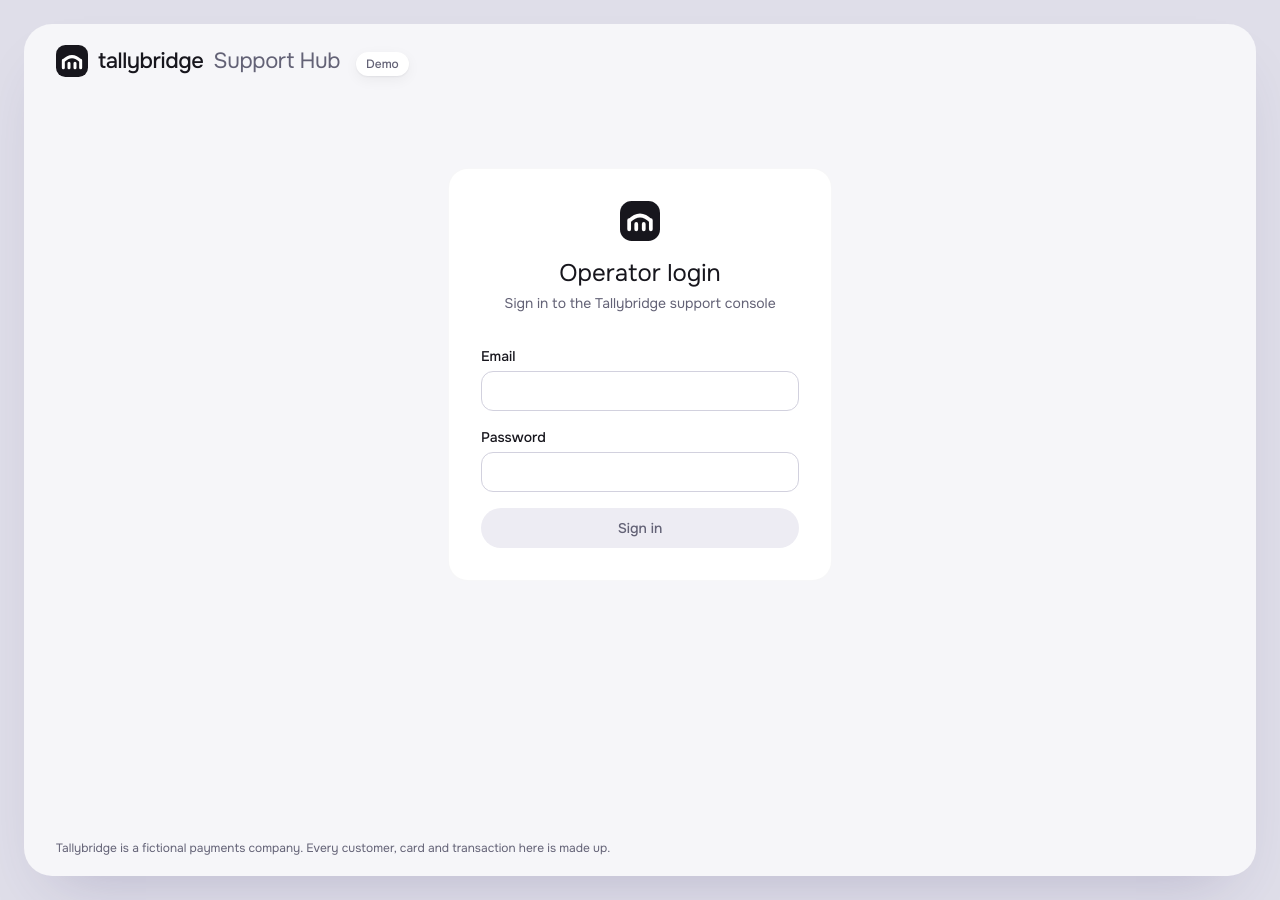
Test: operator login › shows a plain message for wrong credentials and never sends the token on reads
The width and height of the screenshot is (1280, 900).
Type "a@b.test" into the field labelled "Email" at (640, 391), box 481,371 -> 799,411
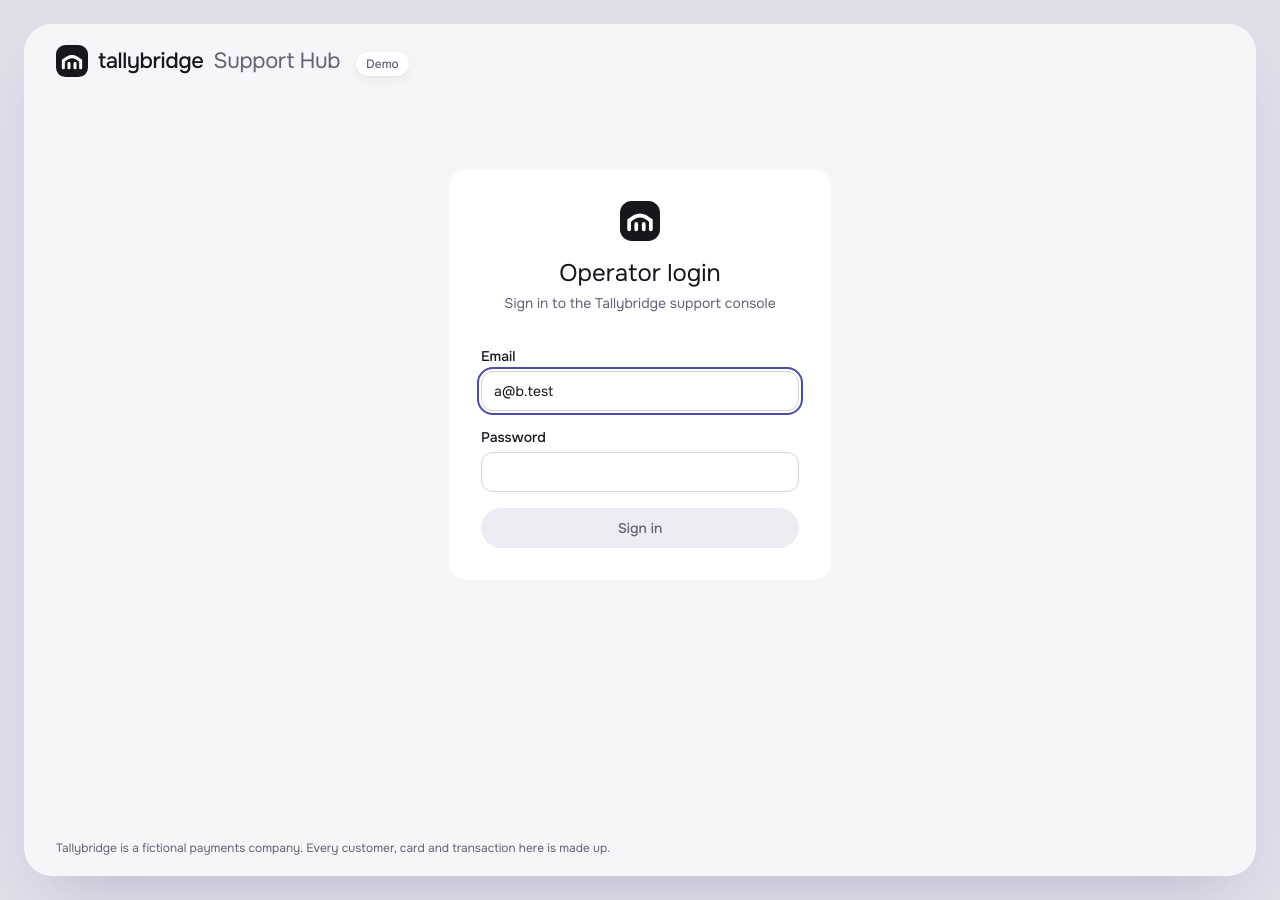
Type "wrong" into the password field labelled "Password" at (640, 472), box 481,452 -> 799,492
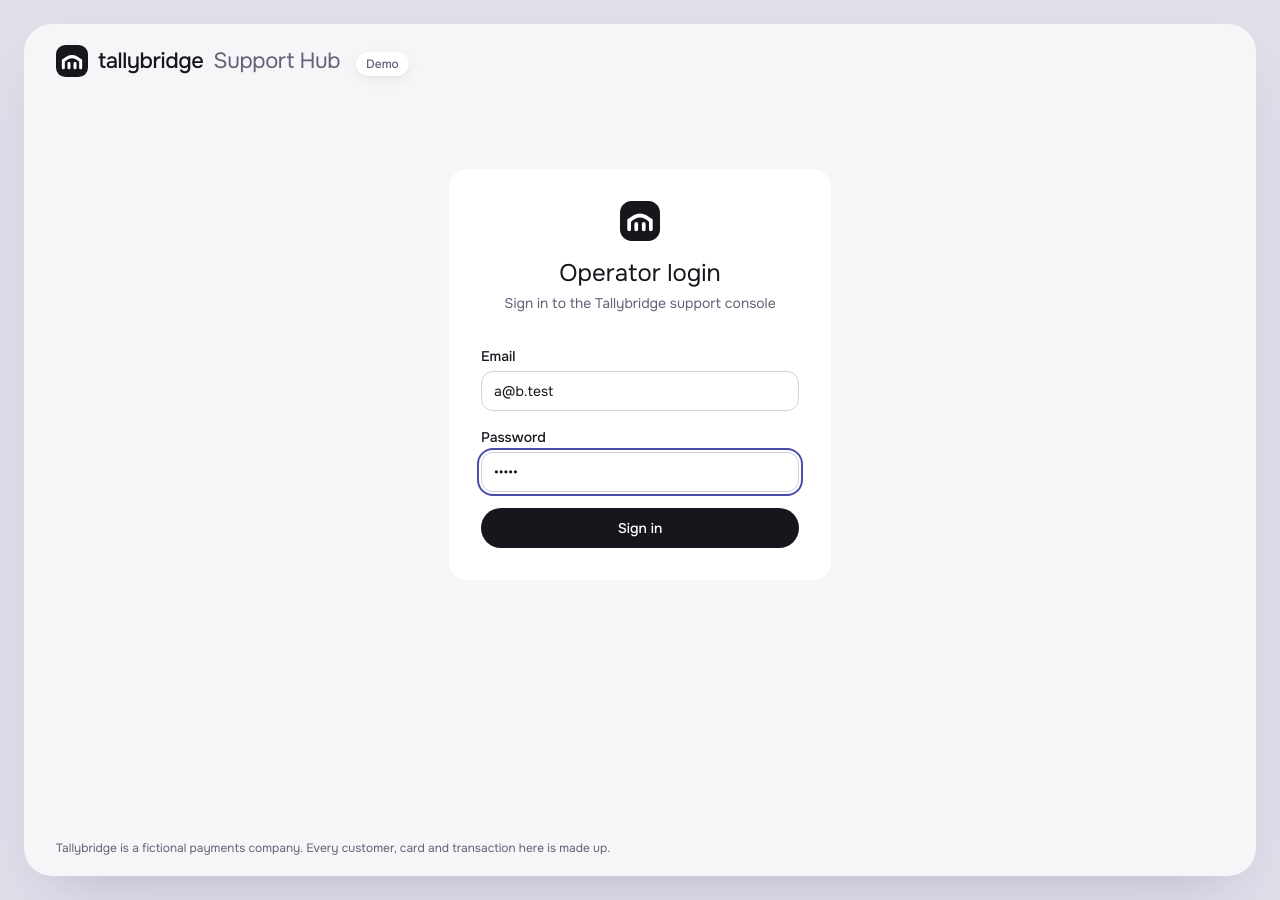
Click the button "Sign in" at (640, 528), box 481,508 -> 799,548
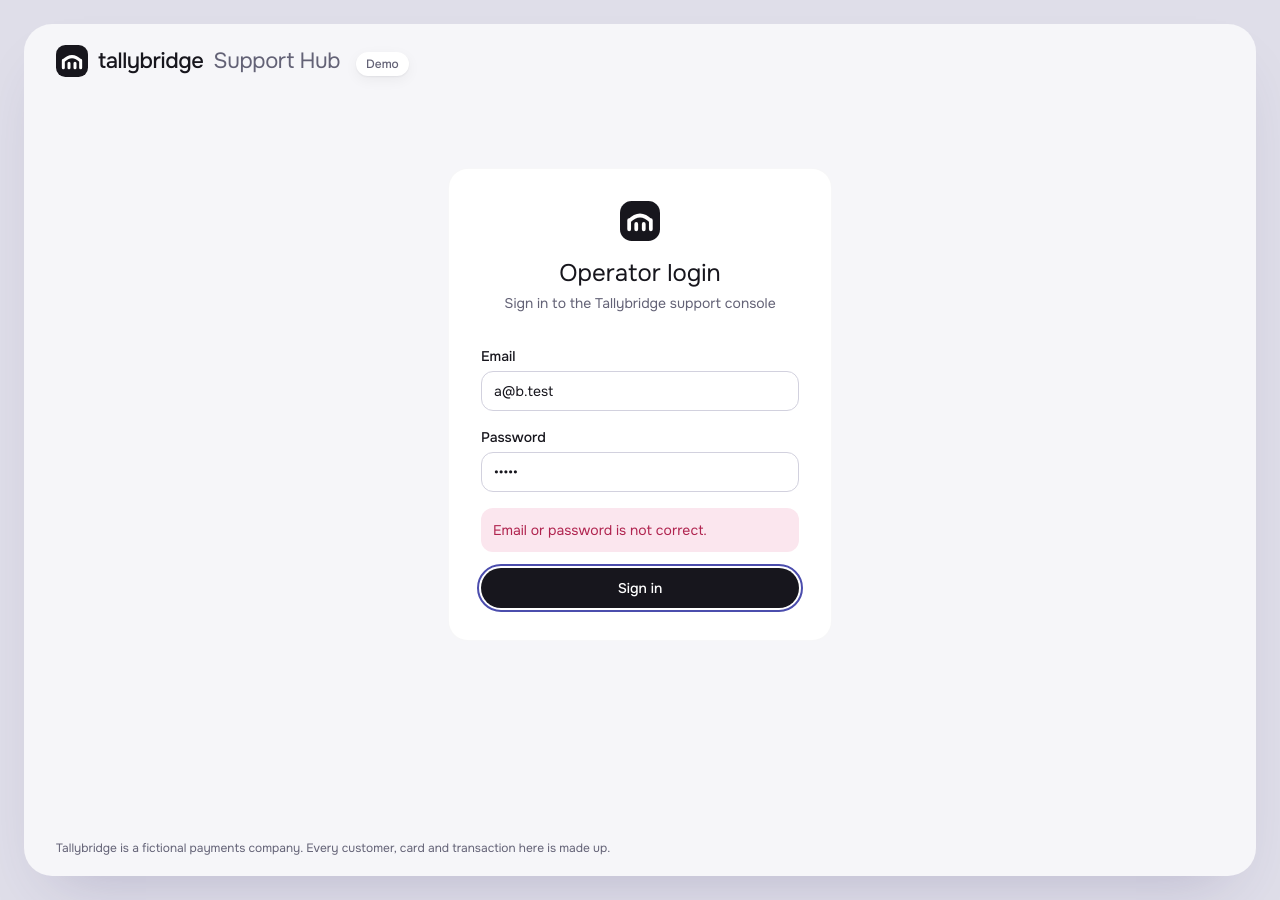
expect the message reads "Email or password is not correct.": met, box 493,521 -> 707,539
